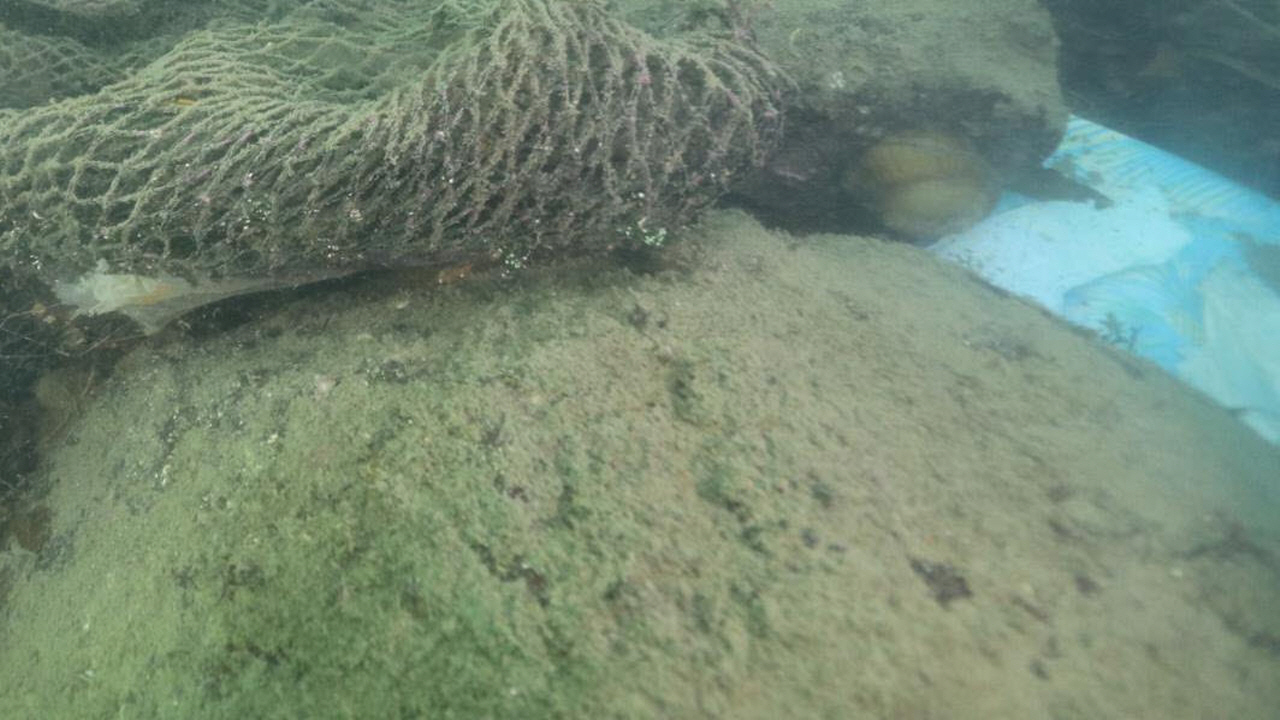fish net: (0, 0, 800, 282)
